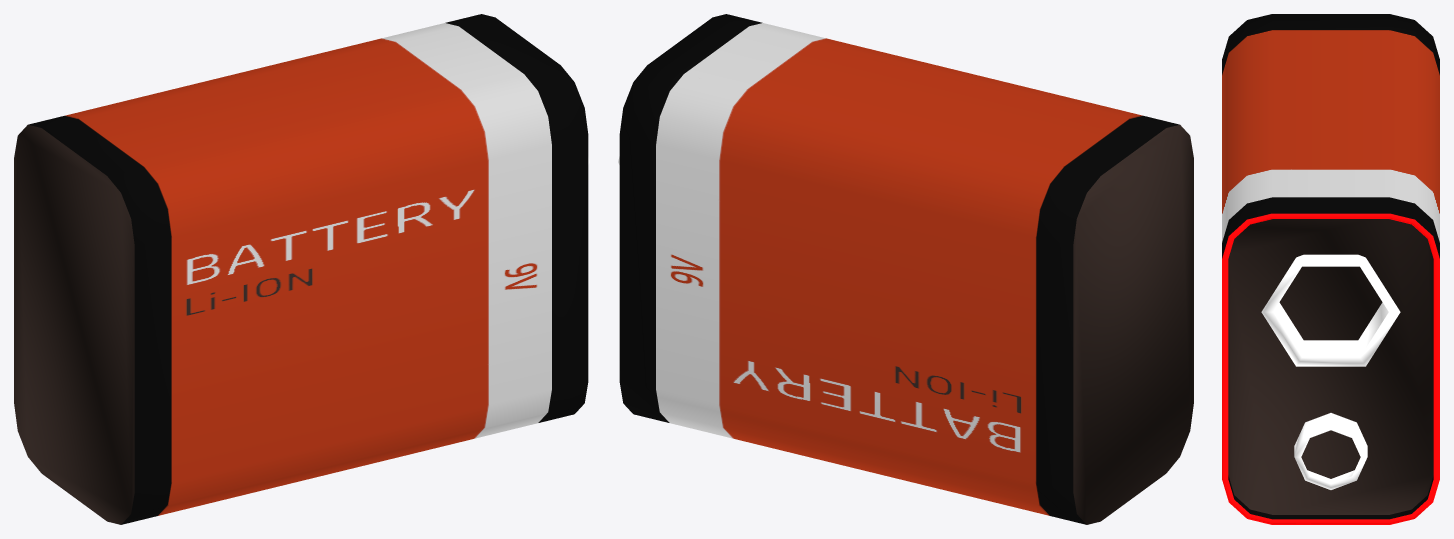
The model's file is battery9vtest.glb.
The picture shows the model from 3 angles, left to right: view 1: azimuth 30°, elevation 25°; view 2: azimuth 150°, elevation 25°; view 3: azimuth 270°, elevation 25°; orthographic projection. The views are drawn at different scales.
Visible parts, largest first — view 1: Plane; view 2: Plane; view 3: Plane.
Boxes of the visible parts, x1,y1,x2,y2 form: Plane: (14,14,589,524); Plane: (618,14,1193,524); Plane: (1222,14,1439,524).
Bounding box in the file's own units: 0.8676 × 0.6008 × 0.3805.
Materials: 4 (1 with a texture image).
